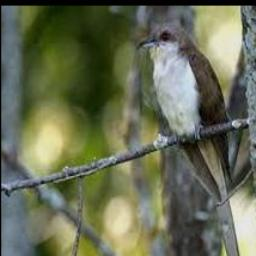Cuckoo: (135, 23, 243, 256)
